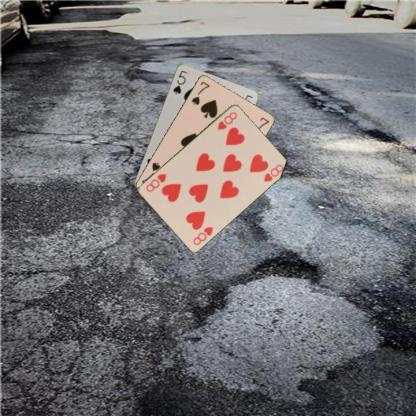5s: (171, 68, 188, 95)
7s: (189, 79, 211, 106)
8h: (215, 109, 238, 131), (191, 224, 214, 246)
